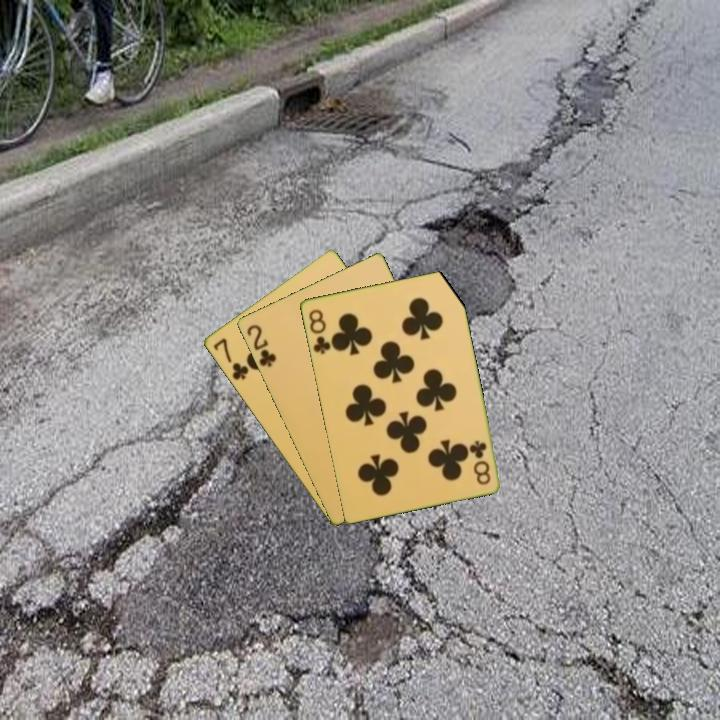2c: (243, 321, 279, 370)
7c: (209, 334, 251, 383)
8c: (305, 305, 333, 357), (466, 437, 493, 488)
